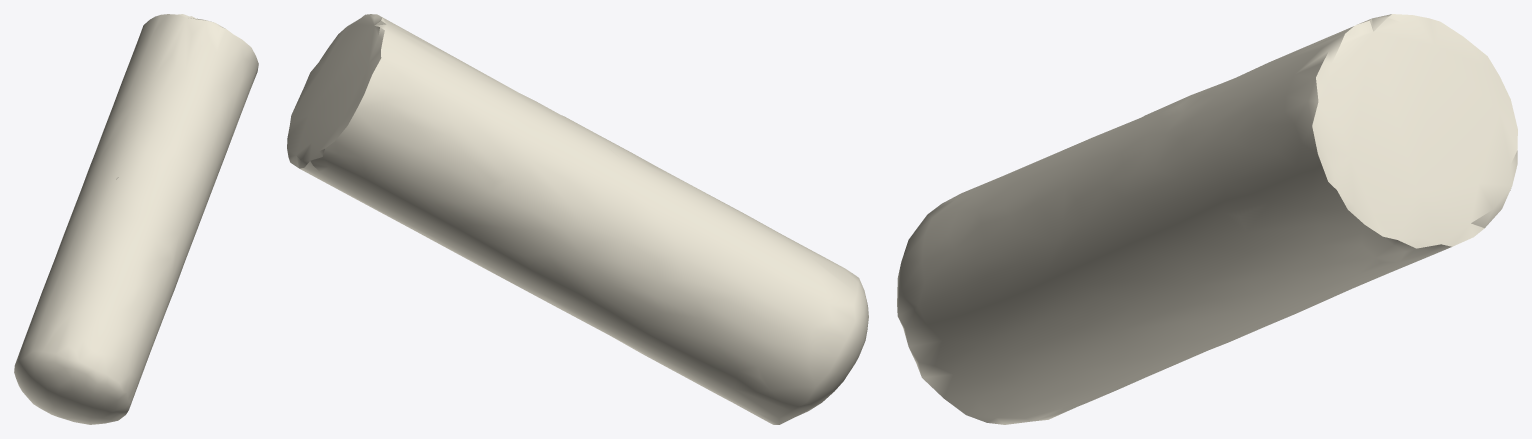
File: fma54775_mm2145m.glb
The picture shows the model from 3 angles, left to right: view 1: azimuth 30°, elevation 25°; view 2: azimuth 150°, elevation 25°; view 3: azimuth 270°, elevation 25°; orthographic projection. The views are drawn at different scales.
Visible parts, largest first — view 1: FMA54775_MM2145M; view 2: FMA54775_MM2145M; view 3: FMA54775_MM2145M.
Boxes of the visible parts, x1,y1,x2,y2 form: FMA54775_MM2145M: (14, 14, 258, 424); FMA54775_MM2145M: (287, 14, 868, 424); FMA54775_MM2145M: (897, 14, 1517, 424).
Size of the model in its own units: 0.0085 by 0.00762 by 0.00736.
